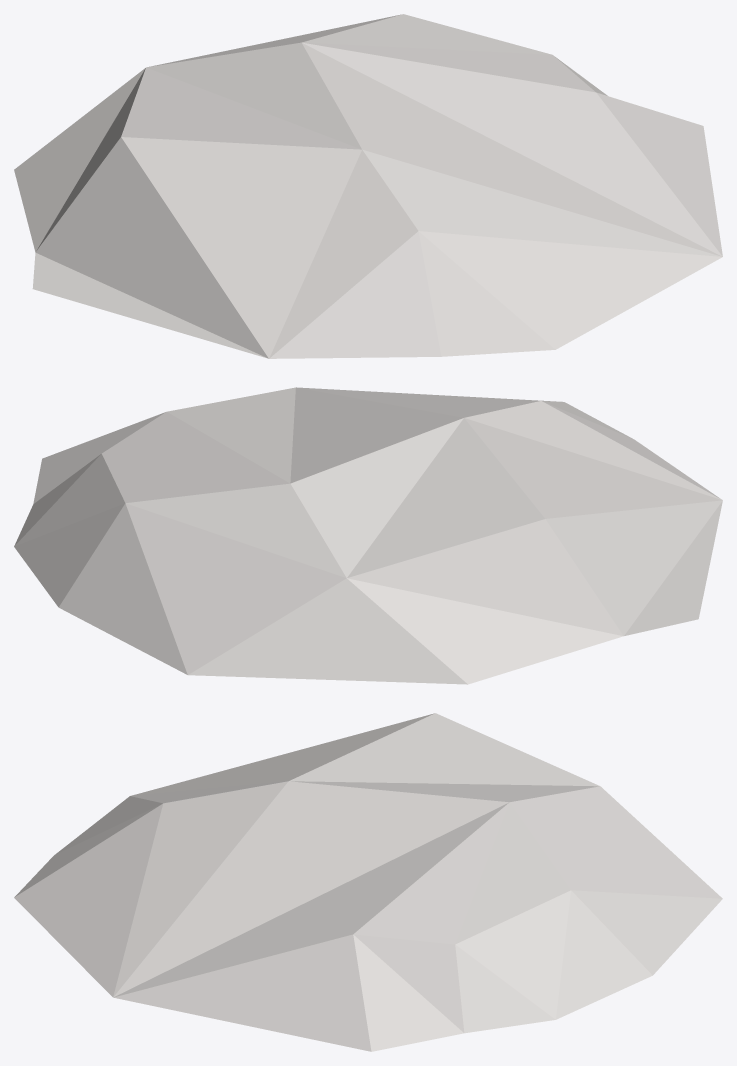
The model's file is SM_Prop_Plate_Large_Grain_04.fbx.
The picture shows the model from 3 angles, top to bottom: view 1: azimuth 30°, elevation 25°; view 2: azimuth 150°, elevation 25°; view 3: azimuth 270°, elevation 25°; orthographic projection. The views are drawn at different scales.
Visible parts, largest first — view 1: SM_Prop_Plate_Large_Grain_04; view 2: SM_Prop_Plate_Large_Grain_04; view 3: SM_Prop_Plate_Large_Grain_04.
Part boxes in pixels (x1,y1,x2,y2): SM_Prop_Plate_Large_Grain_04: (14, 14, 722, 358); SM_Prop_Plate_Large_Grain_04: (14, 387, 722, 684); SM_Prop_Plate_Large_Grain_04: (14, 713, 722, 1051).
Size of the model in its own units: 80.03 by 12.42 by 78.94.
